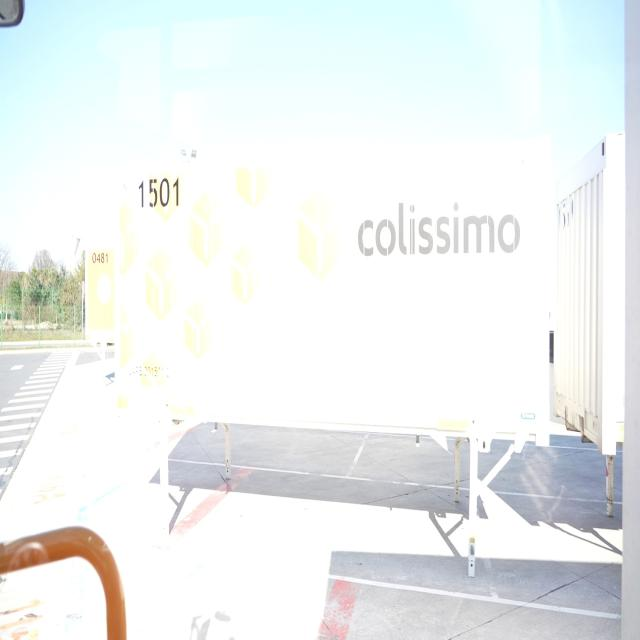Code: (133, 175, 188, 212), (88, 246, 110, 268)
